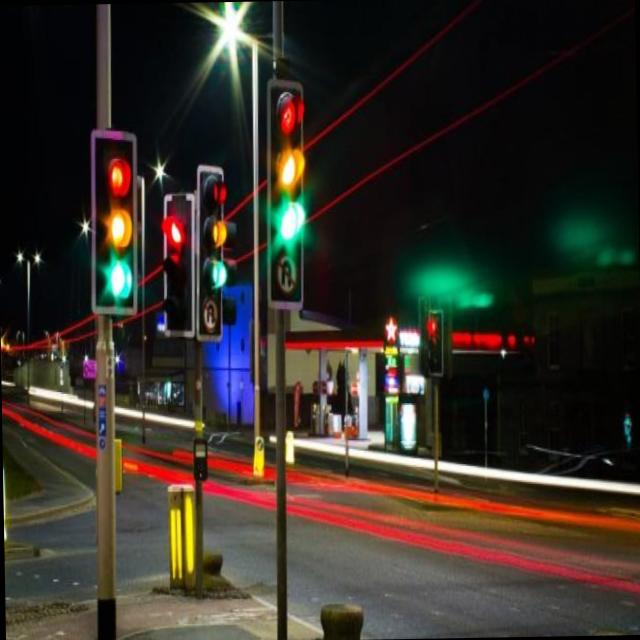green-lights: (278, 204, 296, 244), (110, 263, 125, 299), (212, 262, 222, 286)
red-lights: (108, 158, 129, 196), (280, 94, 296, 135), (168, 218, 182, 245)
yellow-lights: (108, 208, 125, 250), (280, 149, 296, 188), (212, 220, 226, 247)
